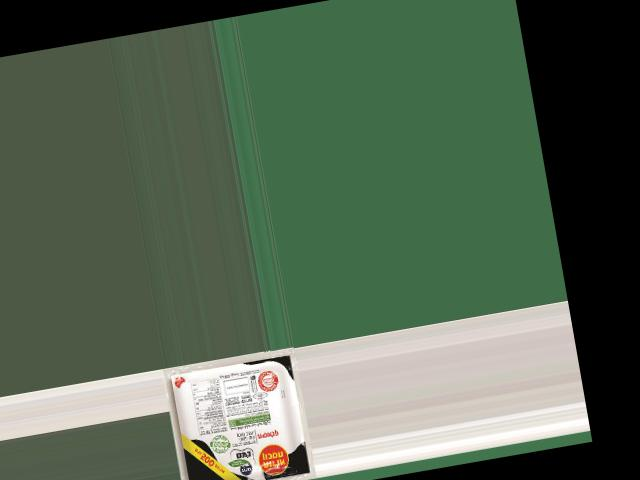cheese: (164, 358, 311, 480)
